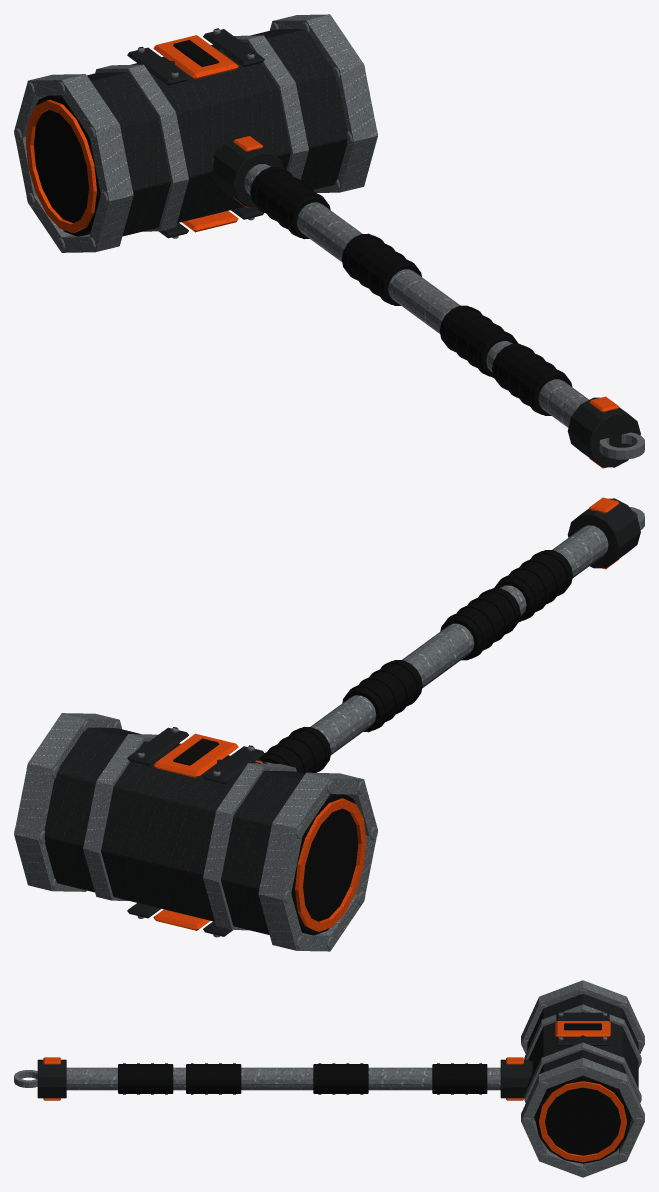
The model's file is impulse-hammer-long-grip.glb.
The picture shows the model from 3 angles, top to bottom: view 1: azimuth 30°, elevation 25°; view 2: azimuth 150°, elevation 25°; view 3: azimuth 270°, elevation 25°; orthographic projection. The views are drawn at different scales.
Parts seen in each view (by area): view 1: Octagonal impulse housing, Heavy endcap steel cage, Machined central haft, Heavy endcap steel cage.001, Recessed striking plate, Steel housing compression band, Locking haft joint, Steel housing compression band.001, Endcap orange indicator lip, Locking haft joint.001, Rubber impact grip sleeve.003, Rubber impact grip sleeve.002 (+7 smaller); view 2: Octagonal impulse housing, Heavy endcap steel cage, Machined central haft, Heavy endcap steel cage.001, Recessed striking plate, Steel housing compression band, Steel housing compression band.001, Endcap orange indicator lip, Locking haft joint, Rubber impact grip sleeve.001, Rubber impact grip sleeve.002, Rubber impact grip sleeve (+5 smaller); view 3: Machined central haft, Recessed striking plate.001, Heavy endcap steel cage.001, Octagonal impulse housing, Heavy endcap steel cage, Endcap orange indicator lip.001, Rubber impact grip sleeve.002, Rubber impact grip sleeve.003, Rubber impact grip sleeve.001, Rubber impact grip sleeve, Locking haft joint, Steel housing compression band.001 (+7 smaller).
Part boxes in pixels (bbox=[...]): Octagonal impulse housing: bbox=[87, 29, 347, 236]; Heavy endcap steel cage: bbox=[14, 74, 133, 252]; Machined central haft: bbox=[244, 164, 588, 427]; Heavy endcap steel cage.001: bbox=[270, 14, 377, 192]; Recessed striking plate: bbox=[33, 95, 100, 236]; Steel housing compression band: bbox=[95, 64, 188, 231]; Locking haft joint: bbox=[567, 397, 640, 467]; Steel housing compression band.001: bbox=[234, 35, 308, 179]; Endcap orange indicator lip: bbox=[25, 100, 96, 233]; Locking haft joint.001: bbox=[213, 137, 283, 206]; Rubber impact grip sleeve.003: bbox=[250, 167, 330, 239]; Rubber impact grip sleeve.002: bbox=[341, 233, 421, 305]; Octagonal impulse housing: bbox=[44, 727, 304, 934]; Heavy endcap steel cage: bbox=[258, 772, 377, 951]; Machined central haft: bbox=[265, 525, 608, 763]; Heavy endcap steel cage.001: bbox=[14, 713, 121, 891]; Recessed striking plate: bbox=[291, 794, 358, 935]; Steel housing compression band: bbox=[203, 763, 296, 930]; Steel housing compression band.001: bbox=[83, 734, 157, 900]; Endcap orange indicator lip: bbox=[295, 798, 366, 931]; Locking haft joint: bbox=[567, 498, 640, 568]; Rubber impact grip sleeve.001: bbox=[440, 588, 520, 660]; Rubber impact grip sleeve.002: bbox=[342, 660, 422, 732]; Rubber impact grip sleeve: bbox=[494, 550, 572, 621]; Machined central haft: bbox=[66, 1067, 500, 1090]; Recessed striking plate.001: bbox=[535, 1075, 630, 1163]; Heavy endcap steel cage.001: bbox=[521, 1058, 644, 1177]; Octagonal impulse housing: bbox=[527, 994, 638, 1121]; Heavy endcap steel cage: bbox=[521, 980, 644, 1053]; Endcap orange indicator lip.001: bbox=[539, 1081, 626, 1162]; Rubber impact grip sleeve.002: bbox=[313, 1064, 368, 1093]; Rubber impact grip sleeve.003: bbox=[432, 1064, 487, 1093]; Rubber impact grip sleeve.001: bbox=[186, 1064, 241, 1093]; Rubber impact grip sleeve: bbox=[118, 1064, 173, 1093]; Locking haft joint: bbox=[37, 1059, 66, 1098]; Steel housing compression band.001: bbox=[524, 1042, 641, 1102].
Bounding box in the file's own units: 0.482 × 0.292 × 1.49.
Materials: 4 (4 with a texture image).
